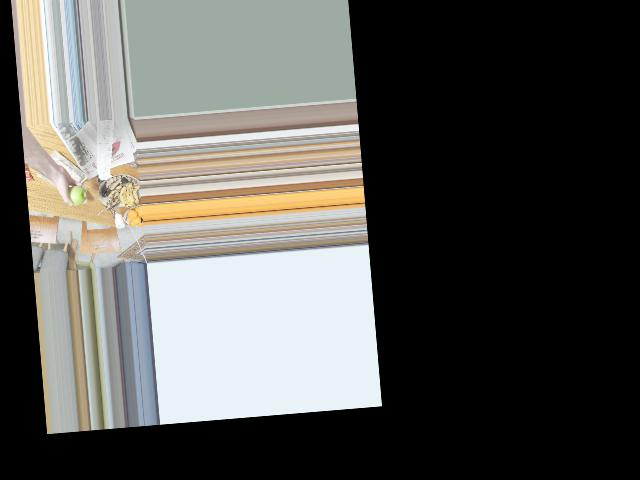apple: (62, 182, 87, 209)
